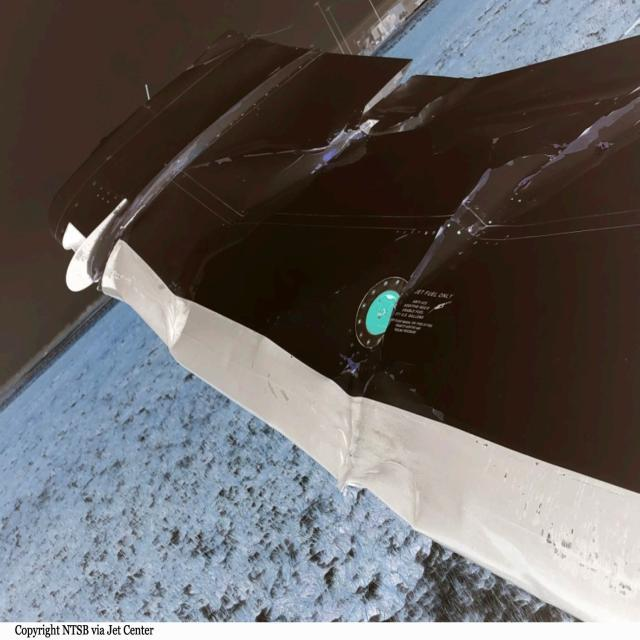dent: (164, 219, 268, 351), (382, 463, 427, 521)
